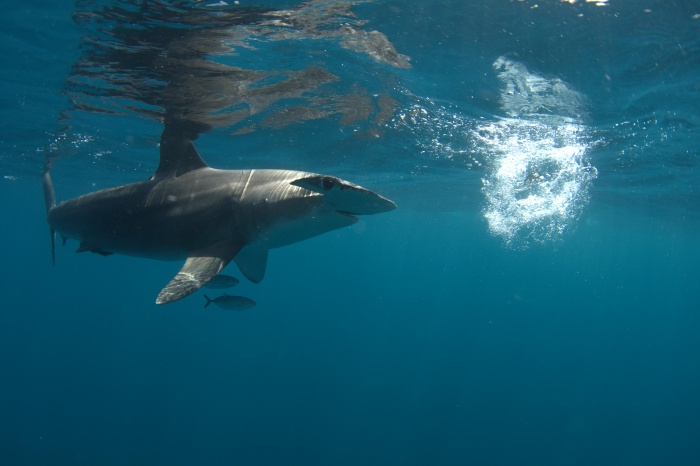Hammer: (34, 114, 495, 353)
